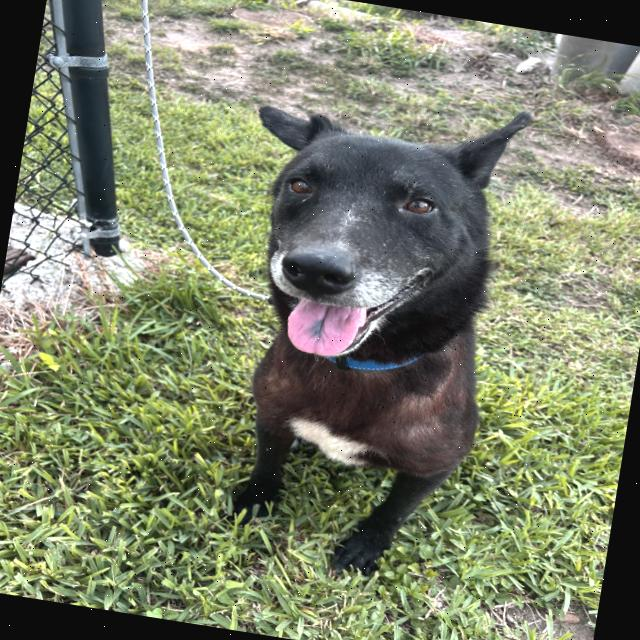labrador_retriever_dog: (194, 52, 554, 416)
